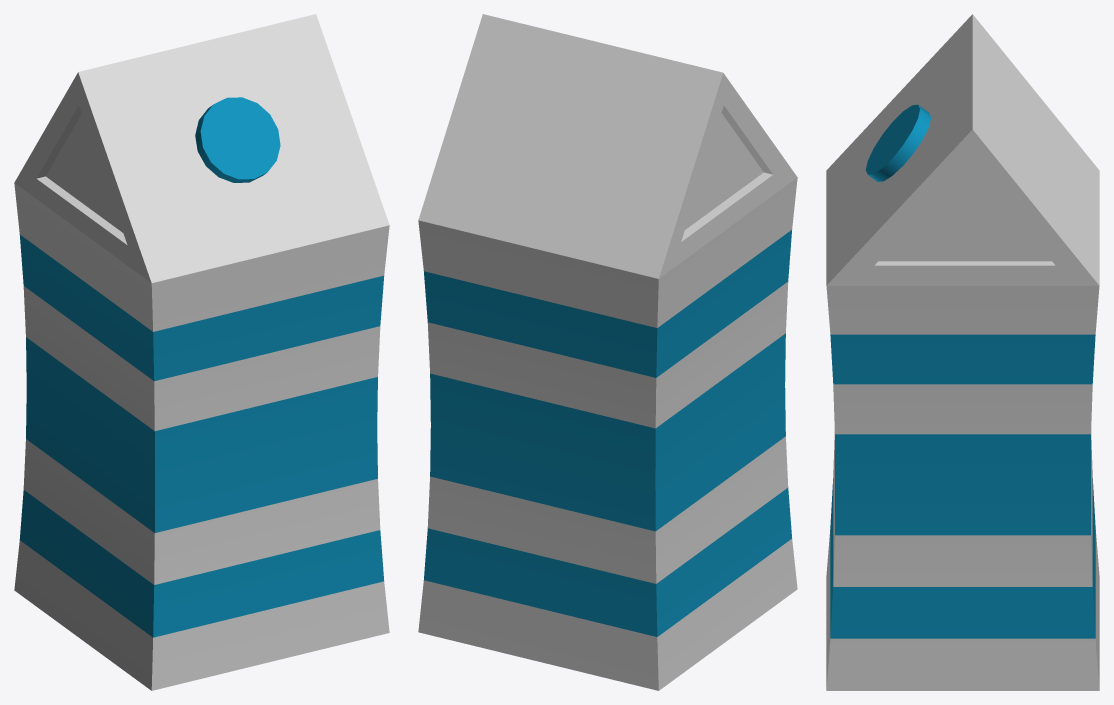
The model's file is 3D_Juice_1.FBX.
The picture shows the model from 3 angles, left to right: view 1: azimuth 30°, elevation 25°; view 2: azimuth 150°, elevation 25°; view 3: azimuth 270°, elevation 25°; orthographic projection.
Visible parts, largest first — view 1: 3D_Juice_1; view 2: 3D_Juice_1; view 3: 3D_Juice_1.
Part boxes in pixels (x1,y1,x2,y2): 3D_Juice_1: (14,14,389,690); 3D_Juice_1: (418,14,797,690); 3D_Juice_1: (826,14,1099,690).
Size of the model in its own units: 92.54 by 210 by 92.54.
